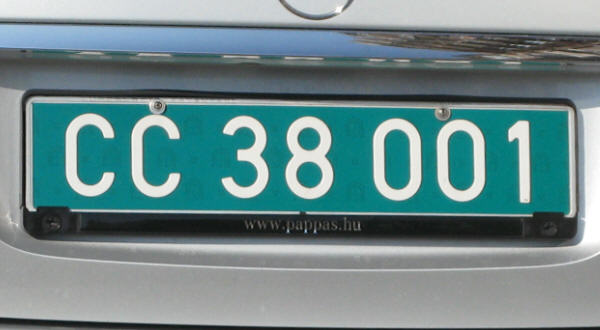license_plate: (25, 96, 577, 218)
